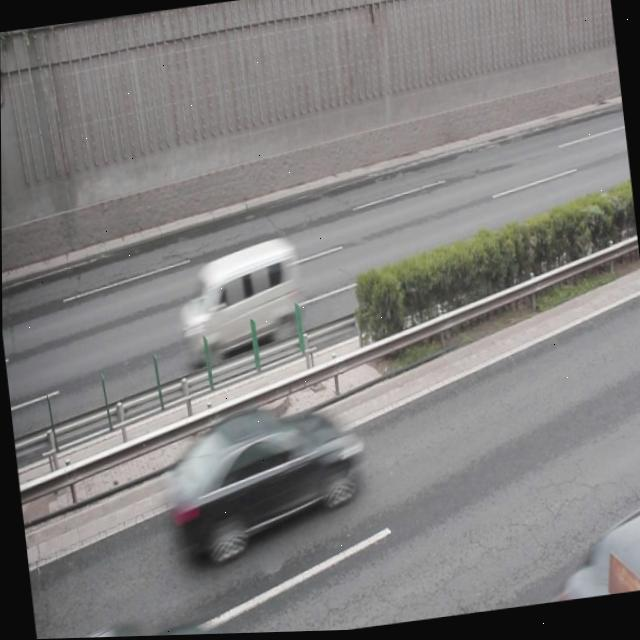car: (157, 399, 365, 571), (551, 511, 640, 604), (48, 613, 210, 639)
truck: (170, 235, 303, 367)
